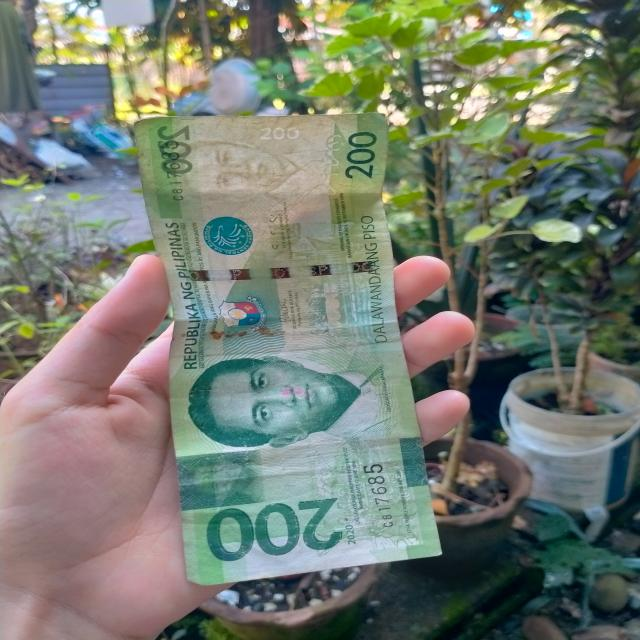concealed_value: (174, 449, 268, 513)
security_thread: (173, 260, 383, 279)
see_through_mark: (314, 130, 351, 203)
serial_number: (148, 134, 191, 211), (354, 459, 396, 533)
value: (202, 495, 344, 560)
value_watermark: (254, 125, 309, 145)
watermark: (171, 138, 324, 209)
